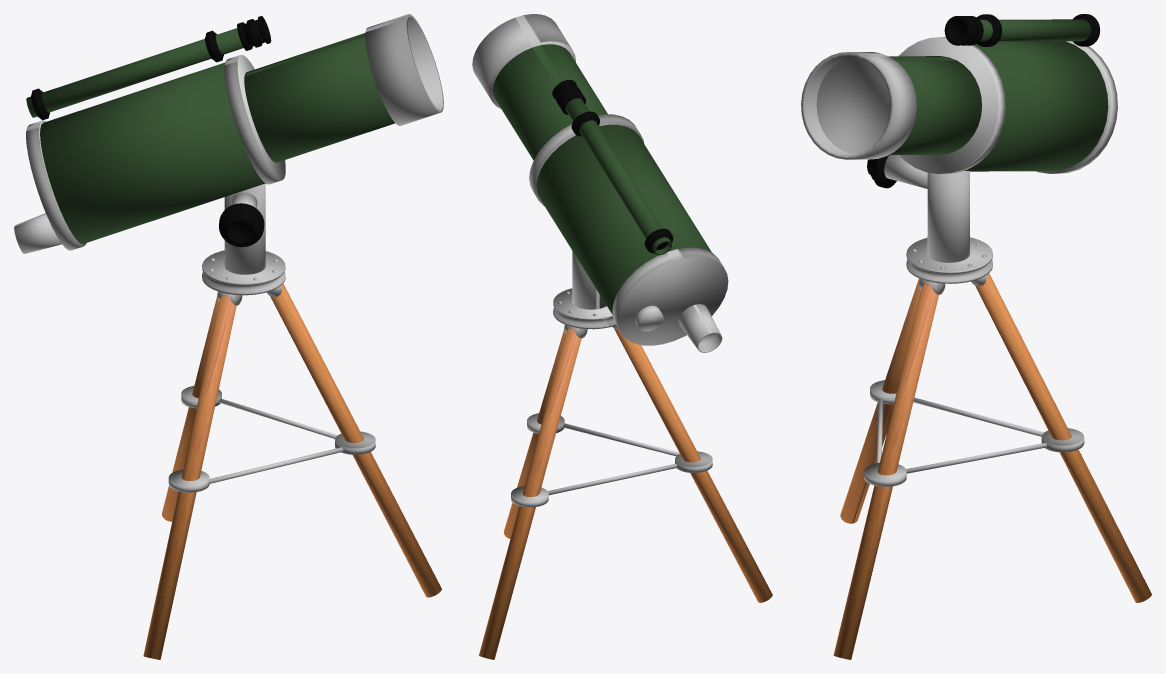
The model's file is telesco.obj.
3 renders of one model, left to right at view 1: azimuth 30°, elevation 25°; view 2: azimuth 150°, elevation 25°; view 3: azimuth 270°, elevation 25°, orthographic. The views are drawn at different scales.
Parts seen in each view (by area): view 1: Cylinder_Cylinder_Material_024 group1, group1 Cylinder_001_Cylinder_001_Material_024, group1 Cylinder_027_Cylinder_032_Material_024, group1 Cylinder_003_Cylinder_003_Material_024, group1 Cylinder_025_Cylinder_026_Material_024, group1 Cylinder_007_Cylinder_007_Material_024, group1 Cylinder_002_Cylinder_002_Material_024, group1 Cylinder_020_Cylinder_021_Material_024, group1 Cylinder_004_Cylinder_004_Material_024, group1 Cylinder_018_Cylinder_019_Material_024, group1 Cylinder_023_Cylinder_029_Material_024, group1 Cylinder_021_Cylinder_022_Material_024 (+5 smaller); view 2: Cylinder_Cylinder_Material_024 group1, group1 Cylinder_004_Cylinder_004_Material_024, group1 Cylinder_001_Cylinder_001_Material_024, group1 Cylinder_023_Cylinder_029_Material_024, group1 Cylinder_027_Cylinder_032_Material_024, group1 Cylinder_003_Cylinder_003_Material_024, group1 Cylinder_007_Cylinder_007_Material_024, group1 Cylinder_020_Cylinder_021_Material_024, group1 Cylinder_006_Cylinder_006_Material_024, group1 Cylinder_002_Cylinder_002_Material_024, group1 Cylinder_025_Cylinder_026_Material_024, group1 Cylinder_018_Cylinder_019_Material_024 (+5 smaller); view 3: Cylinder_Cylinder_Material_024 group1, group1 Cylinder_003_Cylinder_003_Material_024, group1 Cylinder_025_Cylinder_026_Material_024, group1 Cylinder_023_Cylinder_029_Material_024, group1 Cylinder_001_Cylinder_001_Material_024, group1 Cylinder_002_Cylinder_002_Material_024, group1 Cylinder_018_Cylinder_019_Material_024, group1 Cylinder_027_Cylinder_032_Material_024, group1 Cylinder_020_Cylinder_021_Material_024, group1 Cylinder_007_Cylinder_007_Material_024, group1 Cylinder_004_Cylinder_004_Material_024, group1 Cylinder_019_Cylinder_020_Material_024 (+6 smaller).
Boxes of the visible parts, <box> form: Cylinder_Cylinder_Material_024 group1: <box>40,62,265,243</box>; group1 Cylinder_001_Cylinder_001_Material_024: <box>244,33,394,162</box>; group1 Cylinder_027_Cylinder_032_Material_024: <box>143,295,236,659</box>; group1 Cylinder_003_Cylinder_003_Material_024: <box>365,14,443,125</box>; group1 Cylinder_025_Cylinder_026_Material_024: <box>270,283,441,597</box>; group1 Cylinder_007_Cylinder_007_Material_024: <box>26,28,243,117</box>; group1 Cylinder_002_Cylinder_002_Material_024: <box>224,55,285,184</box>; group1 Cylinder_020_Cylinder_021_Material_024: <box>202,250,285,295</box>; group1 Cylinder_004_Cylinder_004_Material_024: <box>26,120,86,250</box>; group1 Cylinder_018_Cylinder_019_Material_024: <box>224,183,265,274</box>; group1 Cylinder_023_Cylinder_029_Material_024: <box>162,296,219,521</box>; group1 Cylinder_021_Cylinder_022_Material_024: <box>219,203,264,247</box>; Cylinder_Cylinder_Material_024 group1: <box>536,124,711,314</box>; group1 Cylinder_004_Cylinder_004_Material_024: <box>612,247,728,345</box>; group1 Cylinder_001_Cylinder_001_Material_024: <box>493,44,607,160</box>; group1 Cylinder_023_Cylinder_029_Material_024: <box>479,328,581,659</box>; group1 Cylinder_027_Cylinder_032_Material_024: <box>614,329,772,602</box>; group1 Cylinder_003_Cylinder_003_Material_024: <box>472,14,575,108</box>; group1 Cylinder_007_Cylinder_007_Material_024: <box>565,98,671,254</box>; group1 Cylinder_020_Cylinder_021_Material_024: <box>553,288,615,329</box>; group1 Cylinder_006_Cylinder_006_Material_024: <box>678,304,722,352</box>; group1 Cylinder_002_Cylinder_002_Material_024: <box>529,114,644,206</box>; group1 Cylinder_025_Cylinder_026_Material_024: <box>503,330,565,538</box>; group1 Cylinder_018_Cylinder_019_Material_024: <box>572,251,606,309</box>; Cylinder_Cylinder_Material_024 group1: <box>964,41,1108,171</box>; group1 Cylinder_003_Cylinder_003_Material_024: <box>801,52,916,159</box>; group1 Cylinder_025_Cylinder_026_Material_024: <box>833,283,938,659</box>; group1 Cylinder_023_Cylinder_029_Material_024: <box>975,273,1151,602</box>; group1 Cylinder_001_Cylinder_001_Material_024: <box>889,56,981,154</box>; group1 Cylinder_002_Cylinder_002_Material_024: <box>899,37,1005,173</box>; group1 Cylinder_018_Cylinder_019_Material_024: <box>927,171,969,262</box>; group1 Cylinder_027_Cylinder_032_Material_024: <box>840,278,921,523</box>; group1 Cylinder_020_Cylinder_021_Material_024: <box>906,237,992,283</box>; group1 Cylinder_007_Cylinder_007_Material_024: <box>979,19,1090,41</box>; group1 Cylinder_004_Cylinder_004_Material_024: <box>1036,41,1117,173</box>; group1 Cylinder_019_Cylinder_020_Material_024: <box>884,155,927,188</box>.
Size of the model in its own units: 1.13 by 1.81 by 0.9617.
